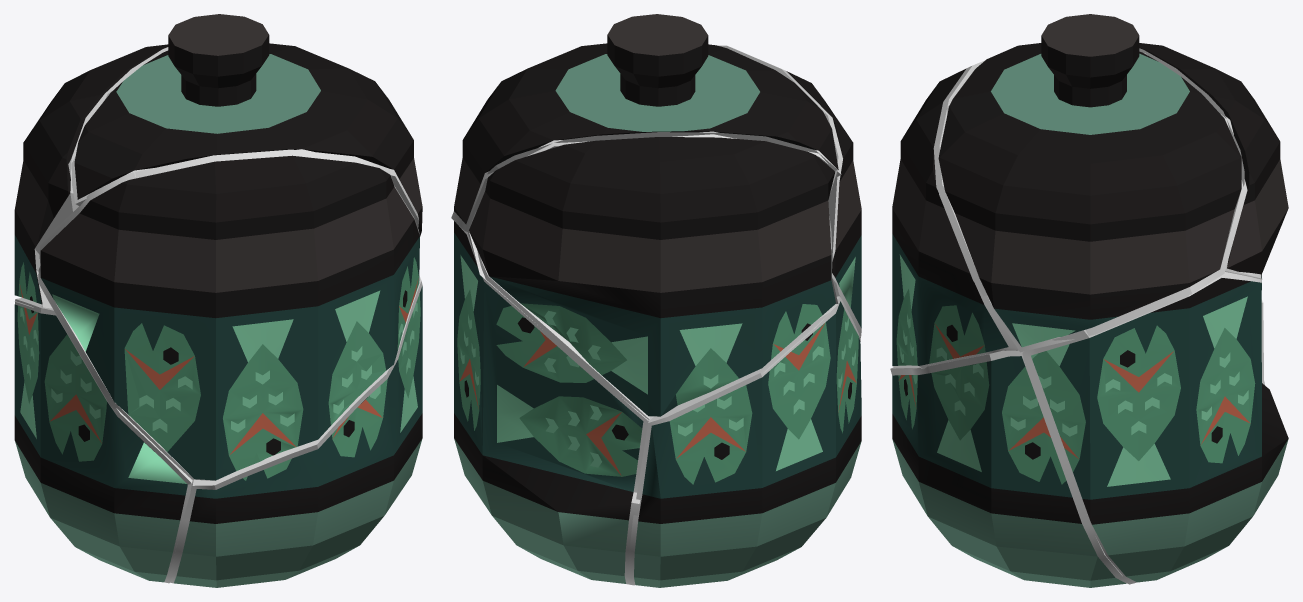
Rendered from v9_fish.fbx.
3 views of the same model, side by side, from view 1: azimuth 30°, elevation 25°; view 2: azimuth 150°, elevation 25°; view 3: azimuth 270°, elevation 25° (orthographic).
Parts seen in each view (by area): view 1: shard2, shard4, shard3, shard1, shard5, gold2, gold3, gold1, gold5, gold4; view 2: shard5, shard1, shard6, shard4, shard2, gold6, gold1, gold5, gold2, gold4; view 3: shard4, shard6, shard3, shard2, shard5, gold4, gold6, gold2, gold3, gold5.
Part boxes in pixels (bbox=[...]): shard2: bbox=[40, 155, 419, 480]; shard4: bbox=[74, 14, 422, 236]; shard3: bbox=[174, 286, 422, 587]; shard1: bbox=[14, 304, 187, 582]; shard5: bbox=[14, 44, 168, 304]; gold2: bbox=[38, 149, 419, 480]; gold3: bbox=[169, 275, 422, 583]; gold1: bbox=[15, 298, 192, 583]; gold5: bbox=[14, 47, 168, 308]; gold4: bbox=[68, 90, 418, 228]; shard5: bbox=[469, 137, 835, 416]; shard1: bbox=[634, 301, 861, 587]; shard6: bbox=[454, 221, 643, 583]; shard4: bbox=[454, 14, 838, 224]; shard2: bbox=[786, 71, 861, 328]; gold6: bbox=[456, 223, 649, 585]; gold1: bbox=[628, 296, 860, 584]; gold5: bbox=[467, 132, 838, 420]; gold2: bbox=[718, 45, 861, 337]; gold4: bbox=[451, 111, 841, 231]; shard4: bbox=[938, 14, 1241, 347]; shard6: bbox=[1031, 278, 1288, 582]; shard3: bbox=[892, 356, 1125, 587]; shard2: bbox=[892, 68, 1008, 365]; shard5: bbox=[1139, 43, 1288, 289]; gold4: bbox=[939, 53, 1247, 352]; gold6: bbox=[1022, 272, 1261, 584]; gold2: bbox=[892, 60, 1018, 369]; gold3: bbox=[890, 350, 1126, 583]; gold5: bbox=[1139, 48, 1262, 282].
Size of the model in its own units: 10.11 by 13.44 by 9.76.
